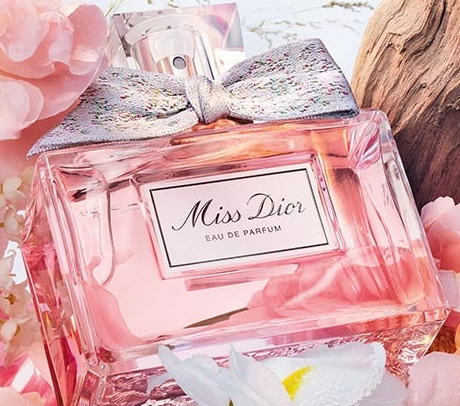dior_miss_dior: (19, 1, 449, 381)
